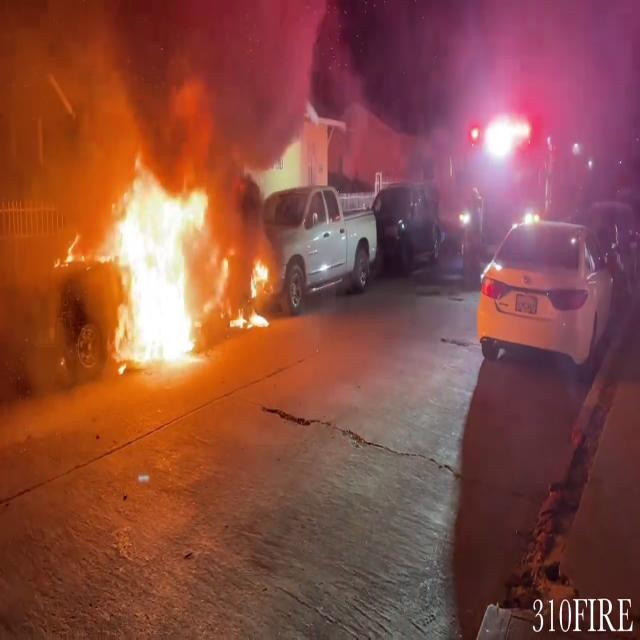Fire: (89, 156, 269, 372), (90, 156, 214, 376)
Smoke: (0, 0, 389, 252)
